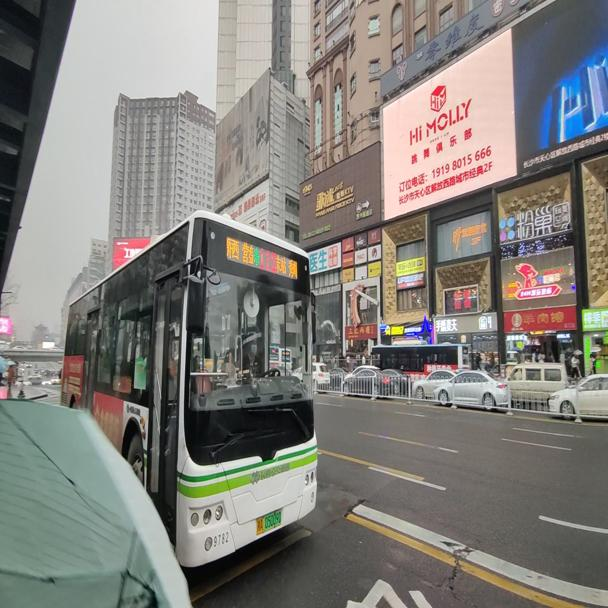bus: (57, 206, 318, 572)
screen: (259, 246, 276, 274)
